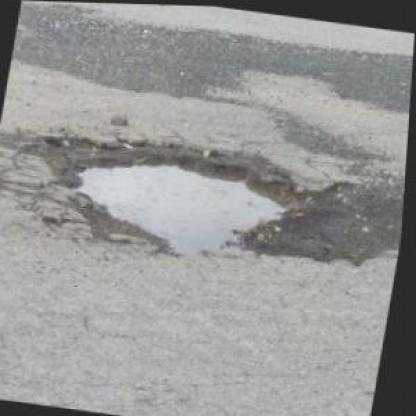pothole: (26, 114, 322, 270)
